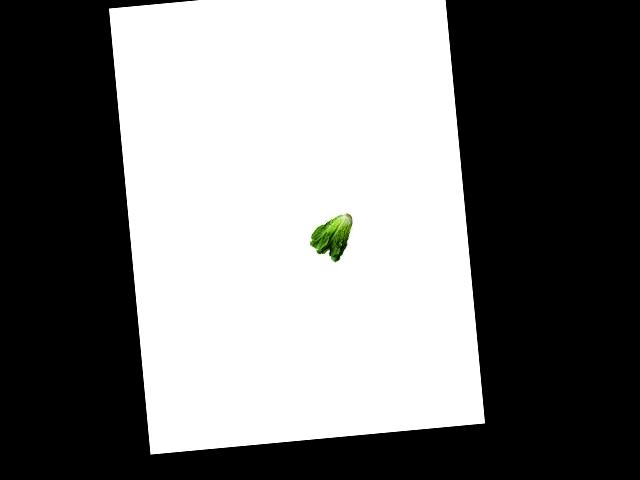lettuce: (301, 211, 356, 264)
